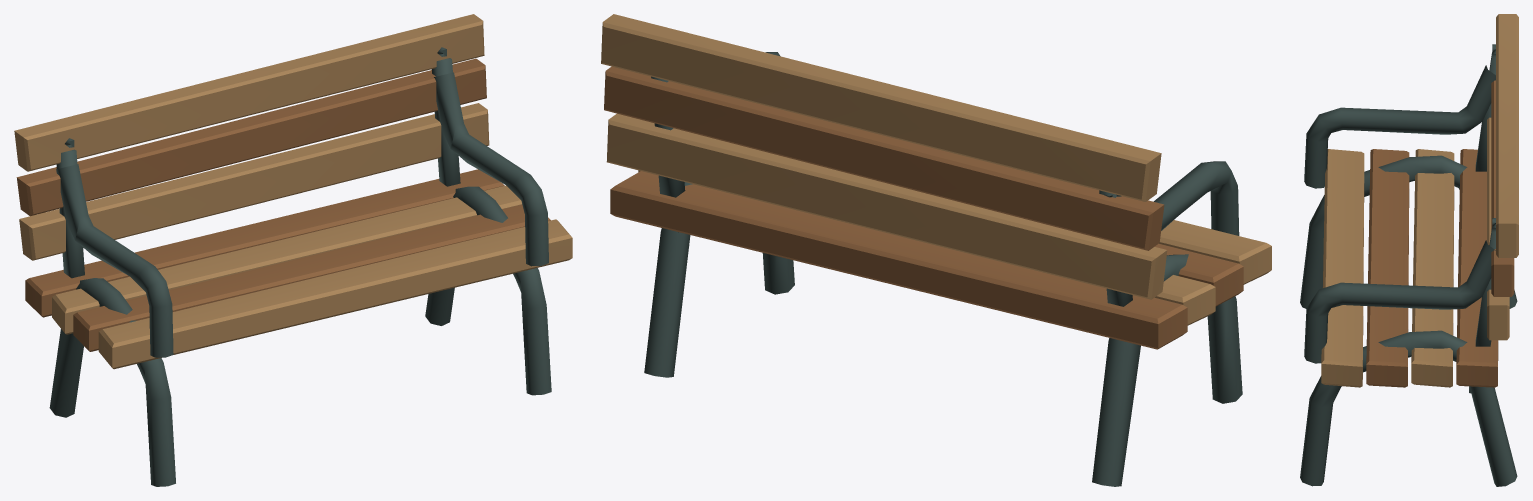
Rendered from banco_lod.glb.
3 renders of one model, left to right at view 1: azimuth 30°, elevation 25°; view 2: azimuth 150°, elevation 25°; view 3: azimuth 270°, elevation 25°, orthographic. The views are drawn at different scales.
Parts seen in each view (by area): view 1: banco; view 2: banco; view 3: banco.
Boxes of the visible parts, x1,y1,x2,y2 form: banco: (14,14,572,486); banco: (601,14,1271,486); banco: (1300,14,1518,486).
Bounding box in the file's own units: 1.56 × 0.9396 × 0.6662.
